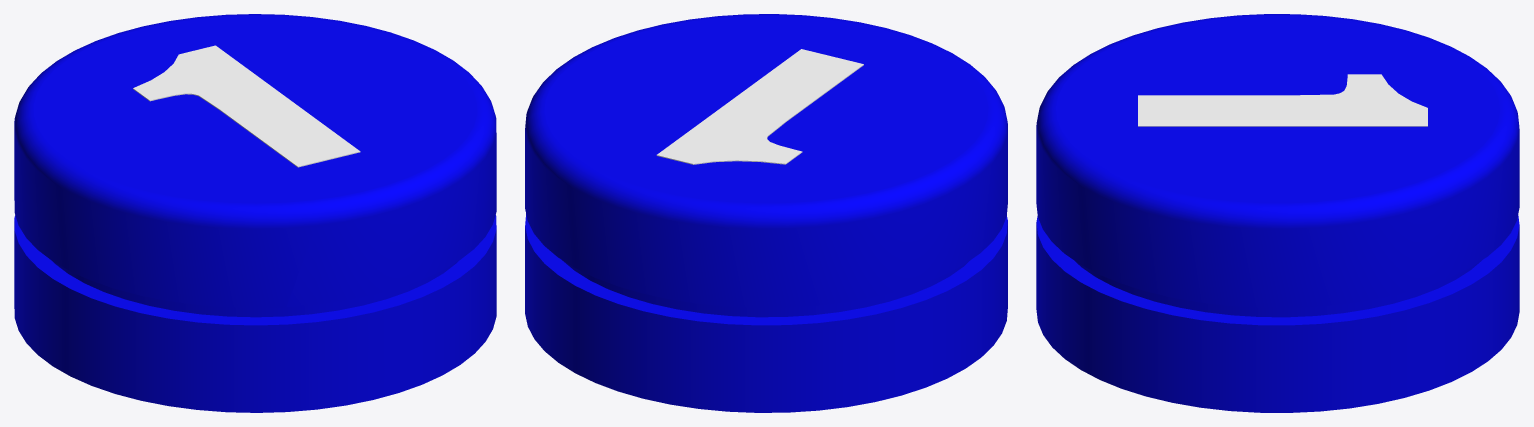
File: nubot_frame1_blue.dae
3 views of the same model, side by side, from view 1: azimuth 30°, elevation 25°; view 2: azimuth 150°, elevation 25°; view 3: azimuth 270°, elevation 25° (orthographic).
Visible parts, largest first — view 1: SketchUp (×3), instance_0; view 2: SketchUp (×3), instance_0; view 3: SketchUp (×3), instance_0.
Boxes of the visible parts, <box> form: SketchUp (×3): <box>14,14,496,412</box>; instance_0: <box>133,45,360,167</box>; SketchUp (×3): <box>525,14,1007,412</box>; instance_0: <box>656,49,863,164</box>; SketchUp (×3): <box>1036,14,1519,412</box>; instance_0: <box>1138,74,1427,126</box>.
Size of the model in its own units: 19.66 by 19.68 by 9.09.
